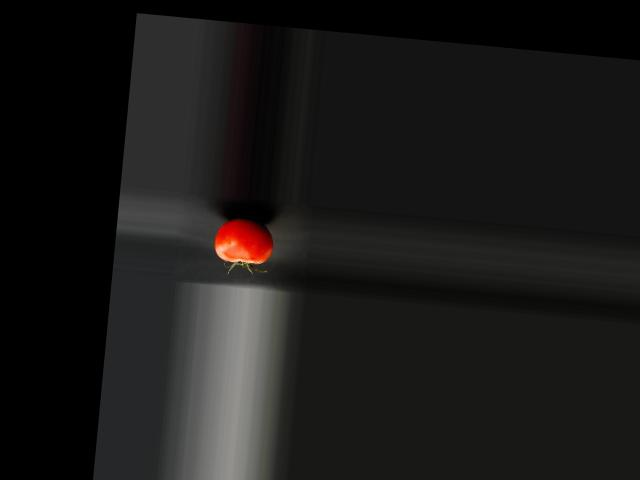tomato: (212, 216, 274, 265)
